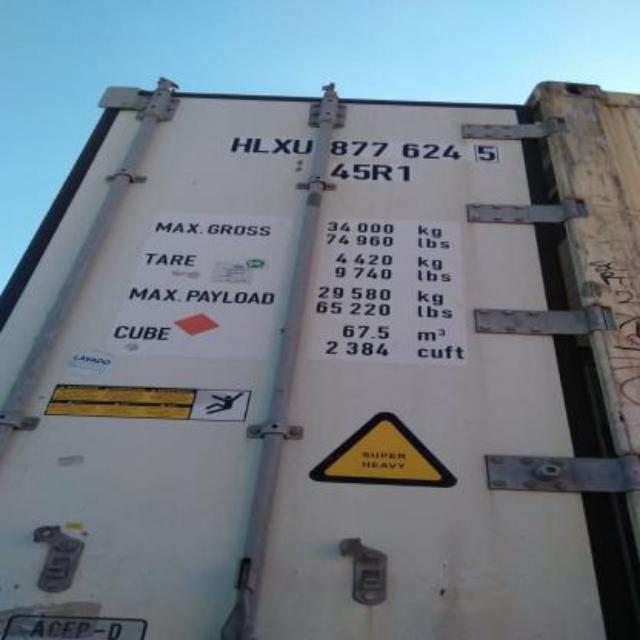2: (418, 138, 442, 166)
4: (442, 136, 460, 164)
5: (470, 144, 502, 166)
6: (402, 137, 420, 161)
7: (346, 136, 366, 160), (368, 135, 388, 159)
8: (326, 138, 349, 158)
H: (230, 128, 250, 156)
L: (254, 133, 268, 157)
U: (293, 130, 311, 160)
X: (270, 133, 292, 157)
